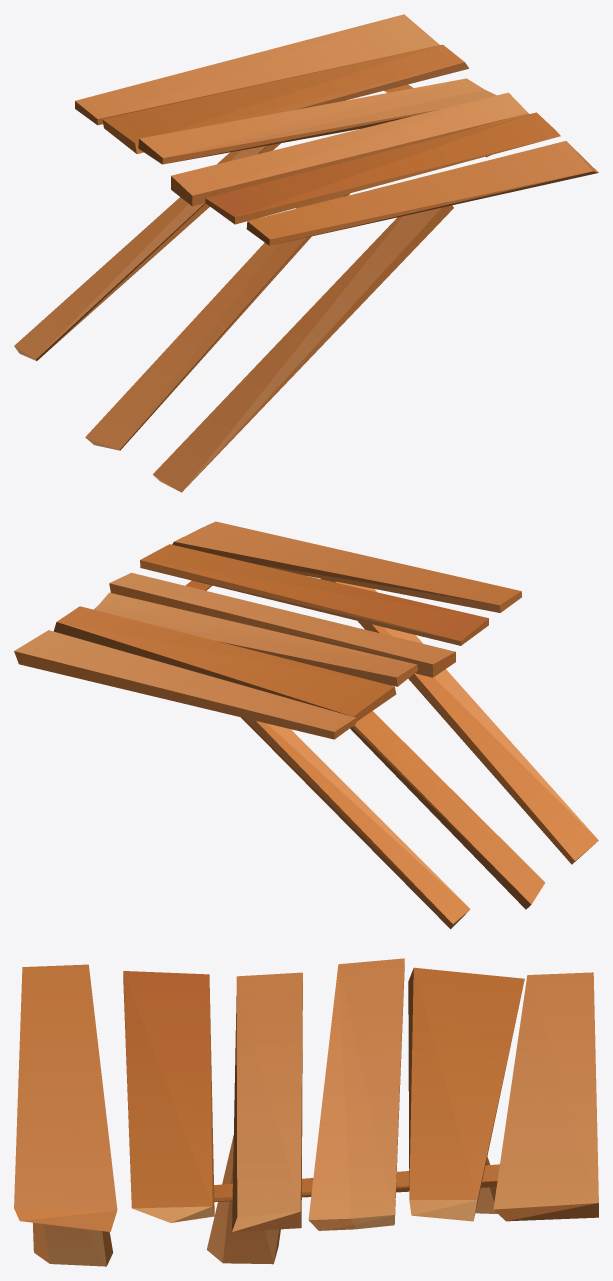
Rendered from GL-Manmade-01-LOD2.fbx.
The picture shows the model from 3 angles, top to bottom: view 1: azimuth 30°, elevation 25°; view 2: azimuth 150°, elevation 25°; view 3: azimuth 270°, elevation 25°; orthographic projection. The views are drawn at different scales.
Visible parts, largest first — view 1: GL_Manmade_01; view 2: GL_Manmade_01; view 3: GL_Manmade_01.
Boxes of the visible parts, <box> form: GL_Manmade_01: <box>14,14,598,492</box>; GL_Manmade_01: <box>14,521,598,929</box>; GL_Manmade_01: <box>14,958,598,1266</box>.
Size of the model in its own units: 2.22 by 1.23 by 1.77.
